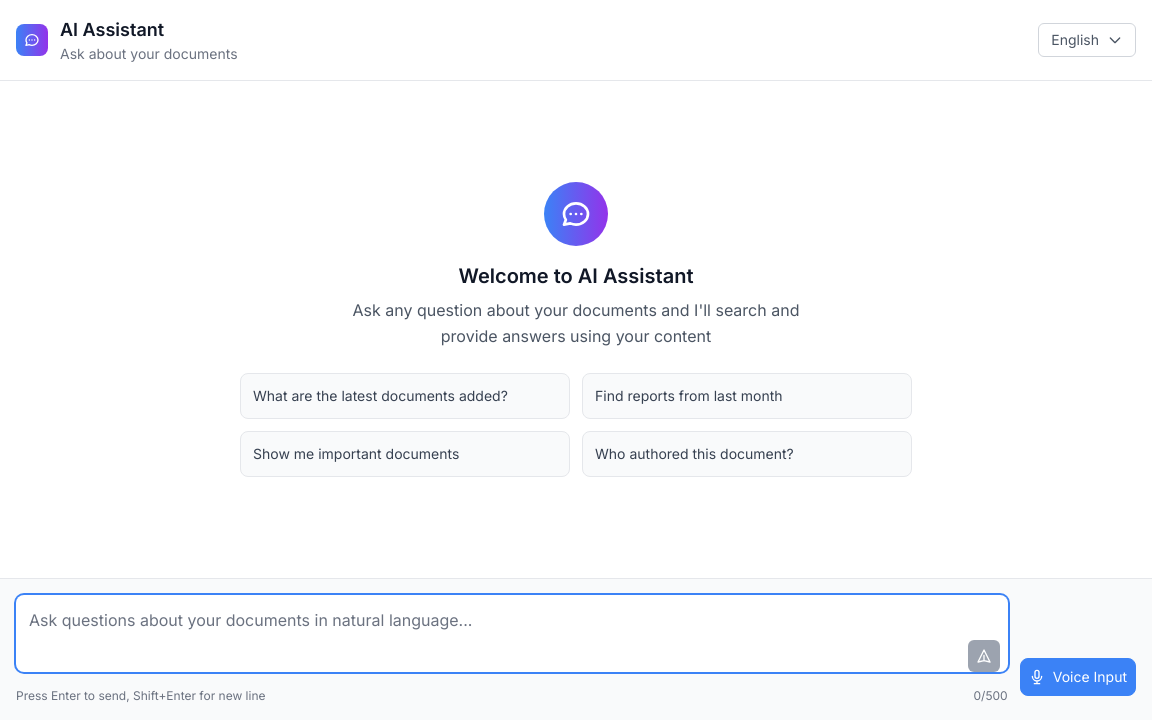
Test: NLPQueryInterface › language switching › should open language selector when clicked
The width and height of the screenshot is (1152, 720).
# Click the main language selector button (first one)
Click the button "English": (1087, 40) x1=1038 y1=23 x2=1136 y2=57
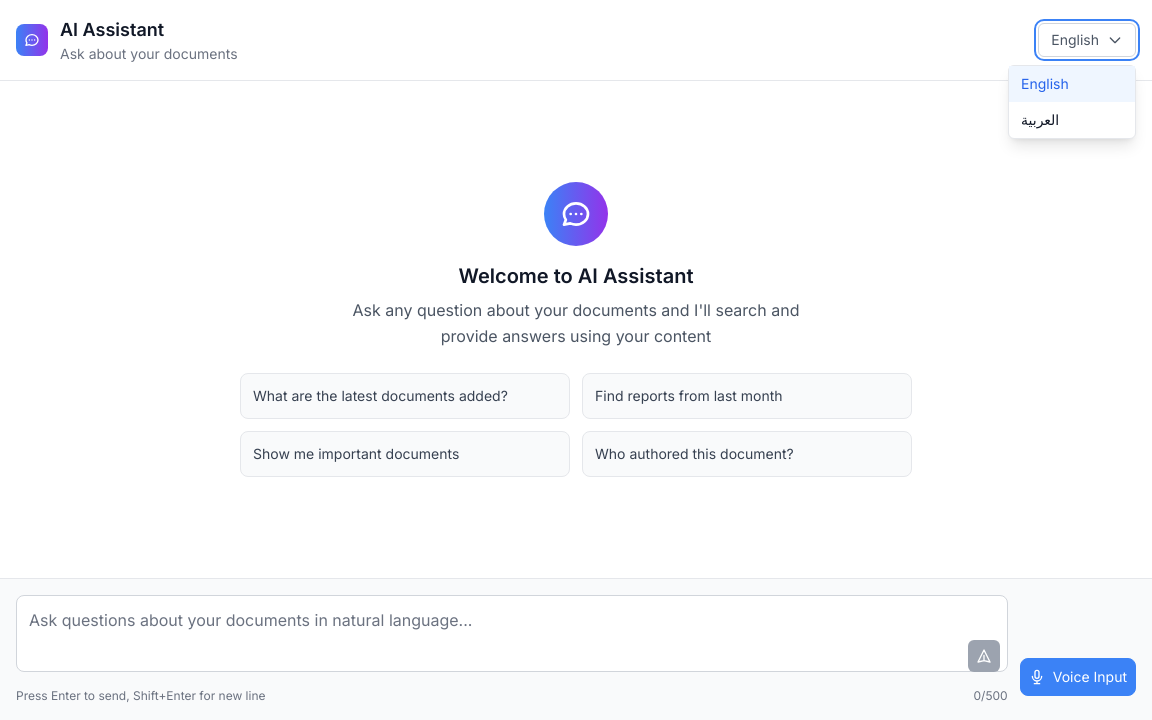
Expected: the number of buttons "English" is 2, x1=1038 y1=23 x2=1136 y2=57; x1=1009 y1=66 x2=1135 y2=102
Result: the button "العربية" is shown at x1=1009 y1=102 x2=1135 y2=138
